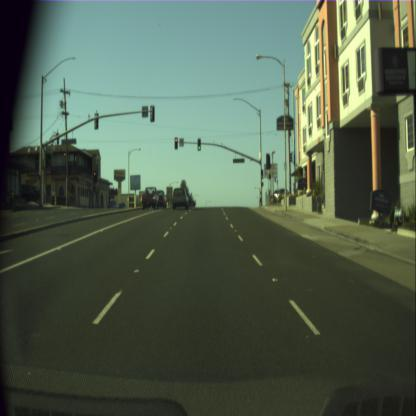Green: (198, 139, 200, 150), (261, 170, 263, 178)
Red: (174, 137, 178, 148), (93, 170, 96, 182)
